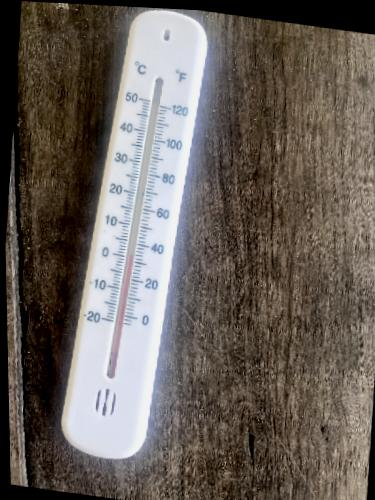thermo: (52, 13, 225, 454)
